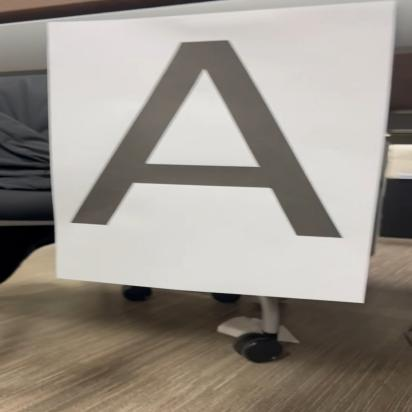seat: (70, 35, 350, 244)
